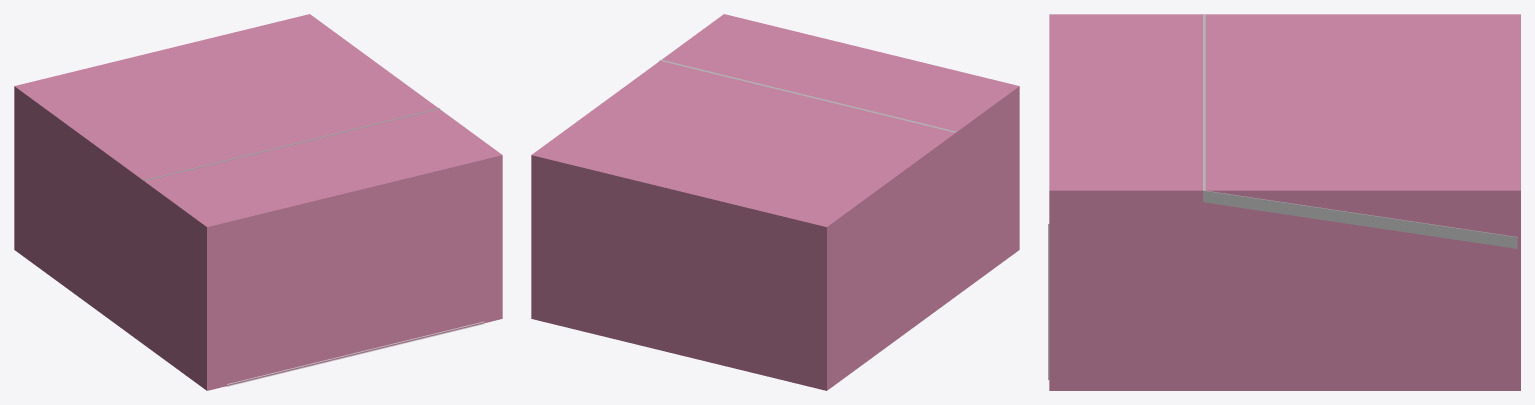
Rendered from race_pit_01_x2.dae.
3 views of the same model, side by side, from view 1: azimuth 30°, elevation 25°; view 2: azimuth 150°, elevation 25°; view 3: azimuth 270°, elevation 25° (orthographic). The views are drawn at different scales.
Visible parts, largest first — view 1: Untitled, ind_bld_a500; view 2: Untitled, ind_bld_a500; view 3: Untitled, ind_bld_a500.
Part boxes in pixels (x1,y1,x2,y2): Untitled: (14,14,502,390); ind_bld_a500: (144,108,439,180); Untitled: (531,14,1019,390); ind_bld_a500: (659,59,956,132); Untitled: (1049,14,1520,390); ind_bld_a500: (1203,14,1517,248).
Bounding box in the file's own units: 16.22 × 18.33 × 8.61.
